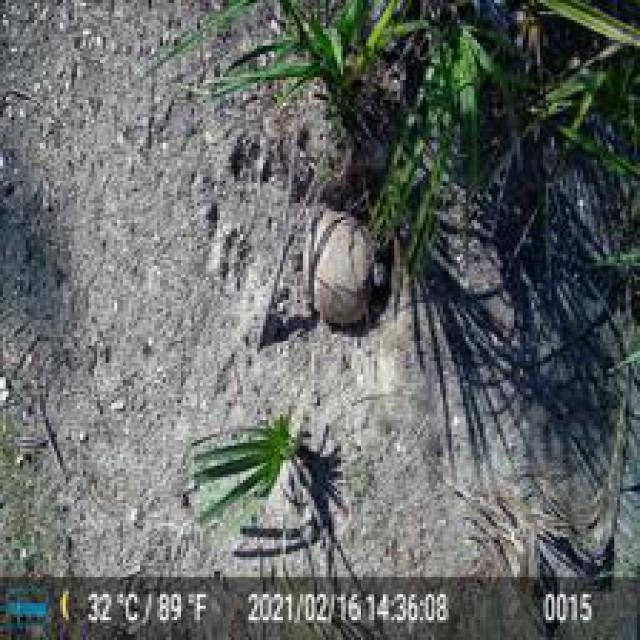tortoise: (297, 206, 391, 334)
